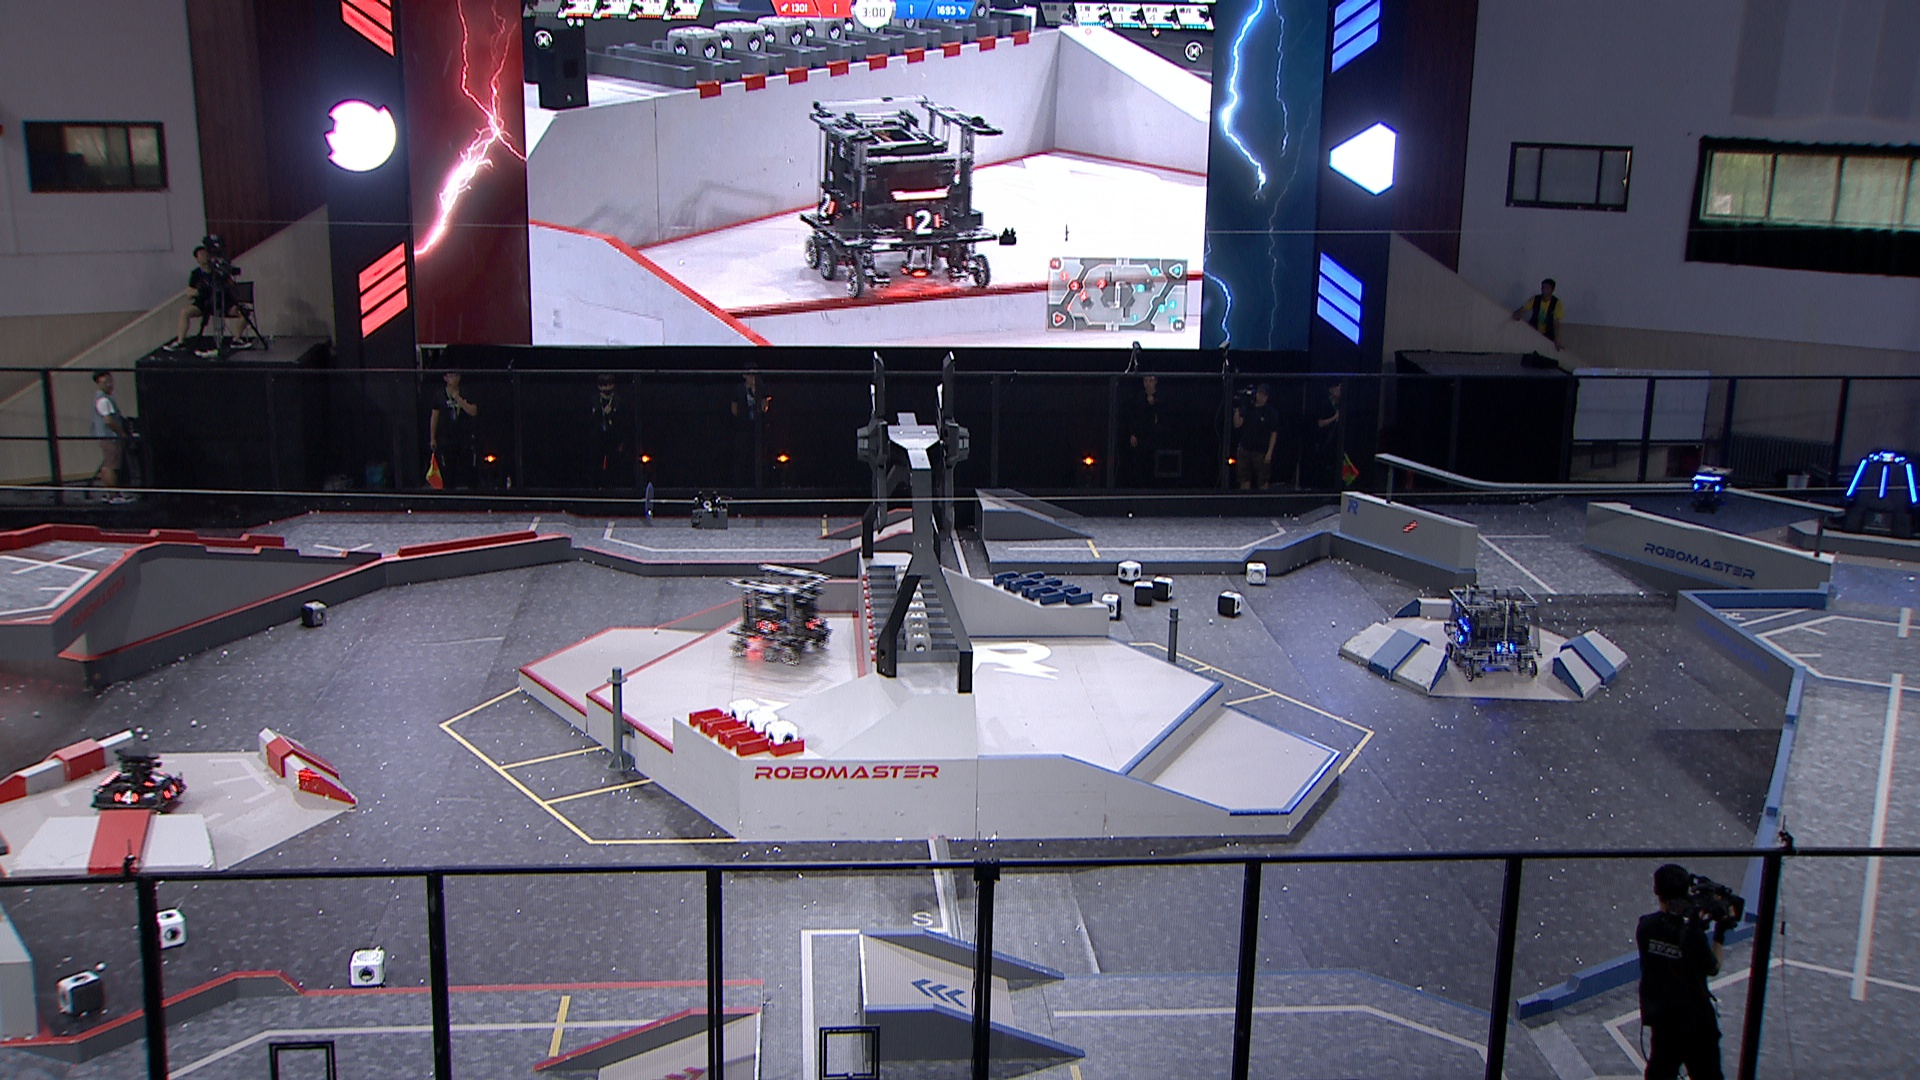armor: (1841, 456, 1870, 498), (1902, 460, 1920, 504), (109, 785, 141, 807), (1875, 462, 1892, 498), (752, 617, 778, 637), (1873, 450, 1902, 465), (145, 769, 167, 789), (162, 778, 181, 802), (1692, 480, 1724, 493), (800, 616, 822, 632), (1495, 640, 1515, 654), (1449, 626, 1462, 645)
base: (1822, 447, 1920, 542)
car: (724, 560, 833, 666), (1441, 582, 1544, 684), (90, 742, 187, 815)
ignore: (794, 92, 1011, 301)
watcher: (1685, 458, 1731, 516)
